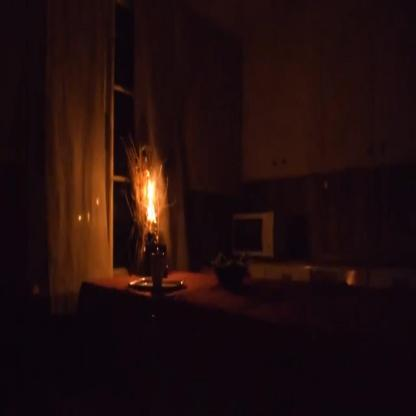fire: (141, 168, 165, 229)
